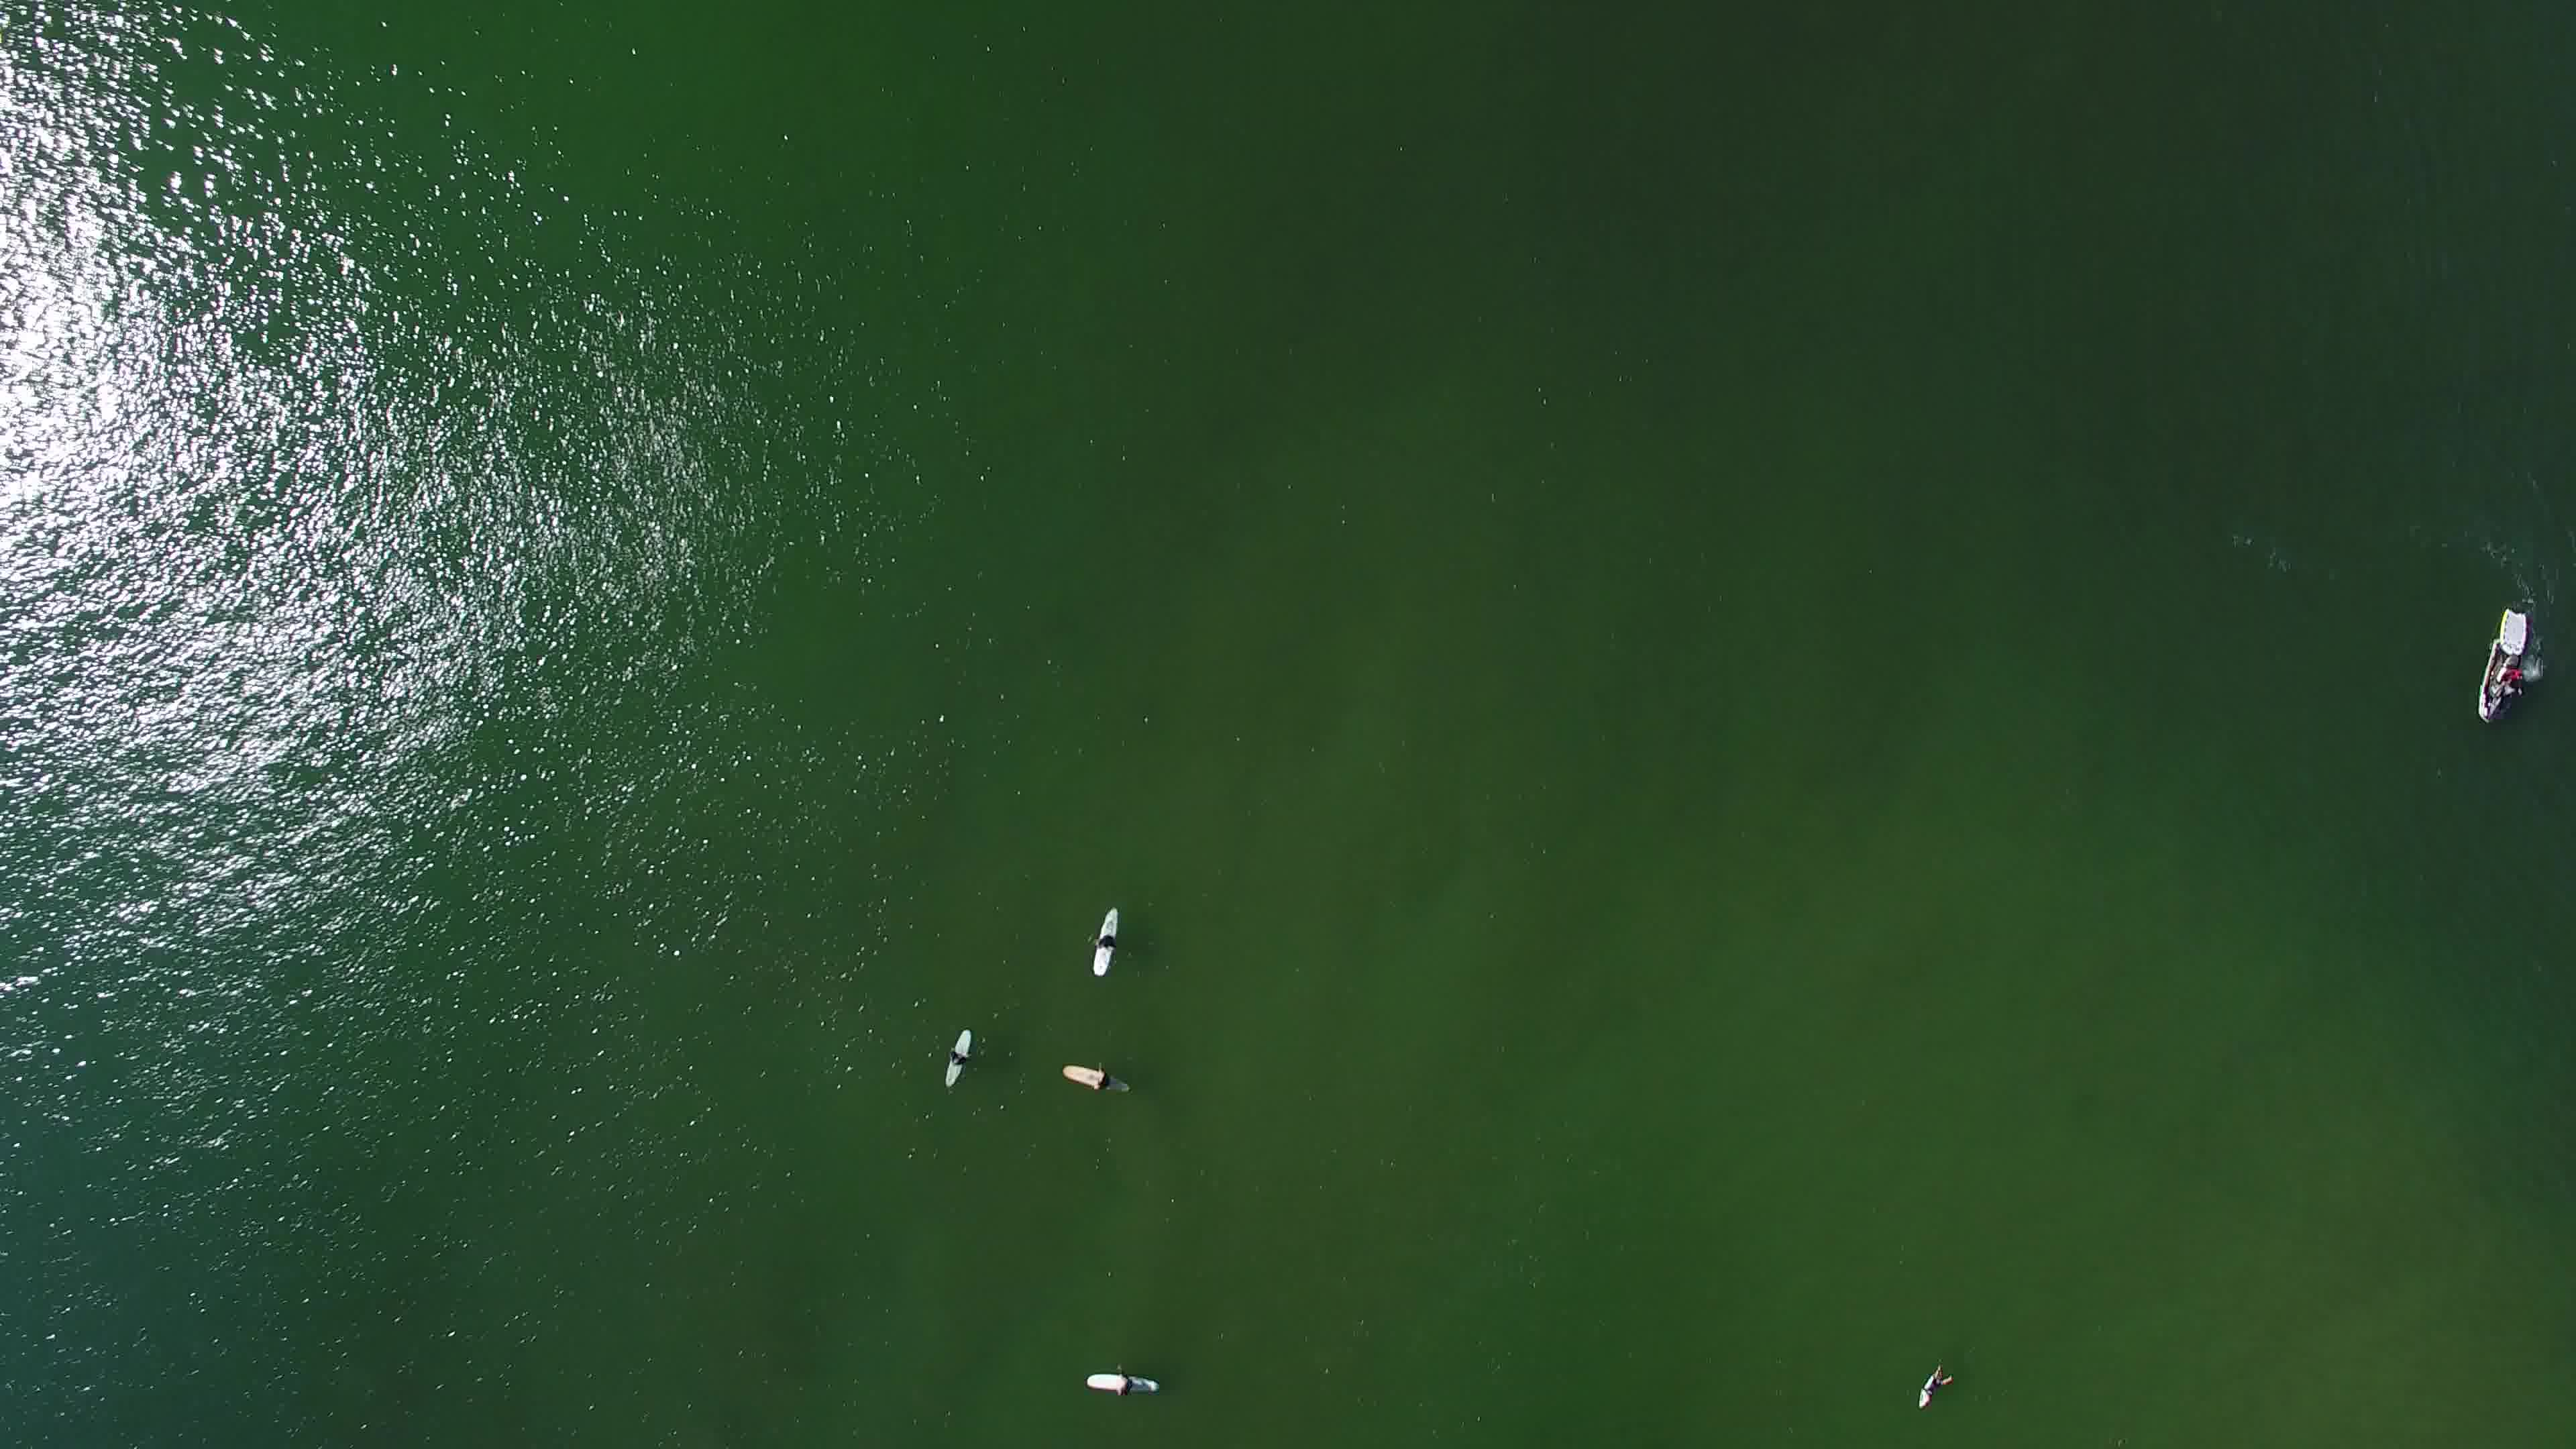surfer: (1077, 890, 1131, 989), (1056, 1049, 1143, 1102), (1083, 1355, 1164, 1401), (939, 1019, 982, 1093), (1907, 1361, 1957, 1421)
